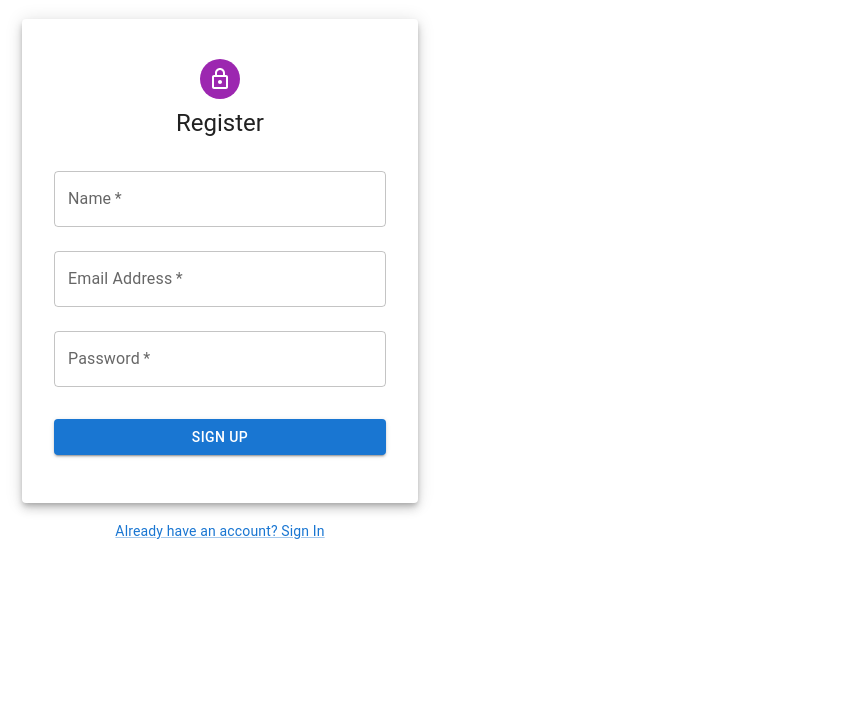
Test: Register Page › shows error snackbar when name is missing
Type "john.doe@example.com" into the field labelled "Email Address *" at (220, 279), box [54,251,386,307]
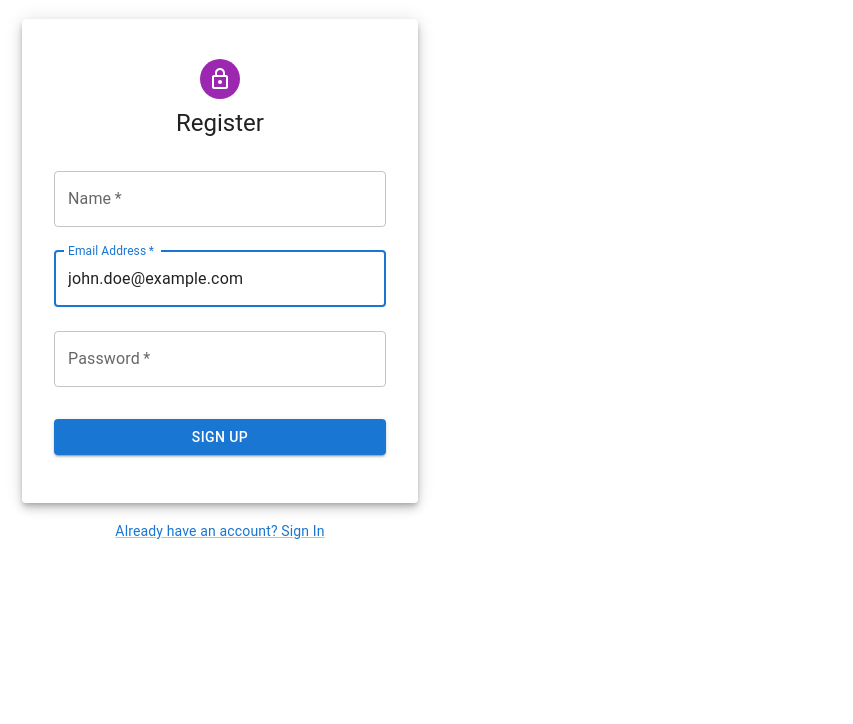
Type "password123" into the password field labelled "Password *" at (220, 359), box [54,331,386,387]
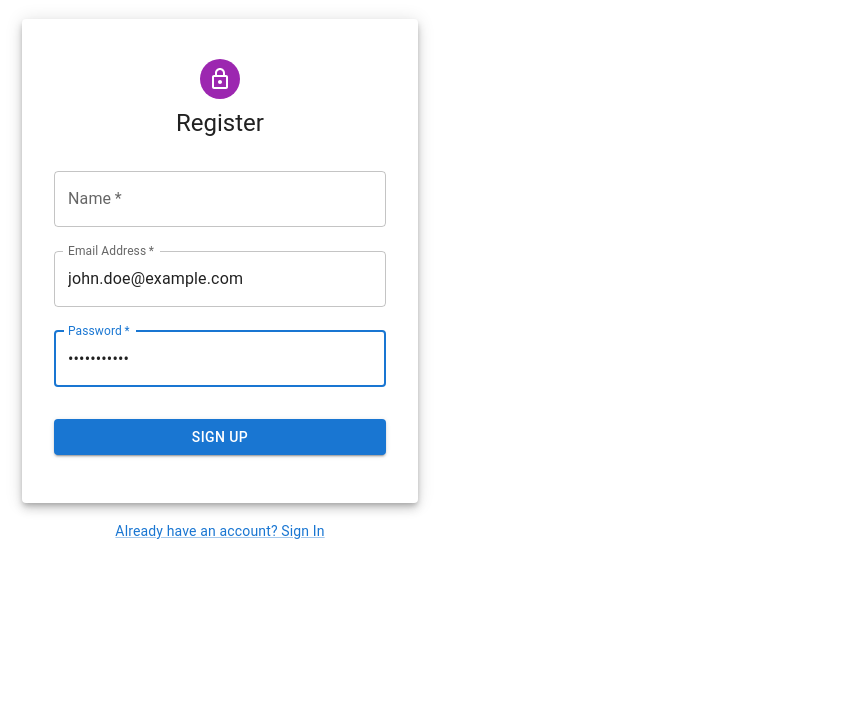
Click the button "Sign Up" at (220, 437), box [54,419,386,455]
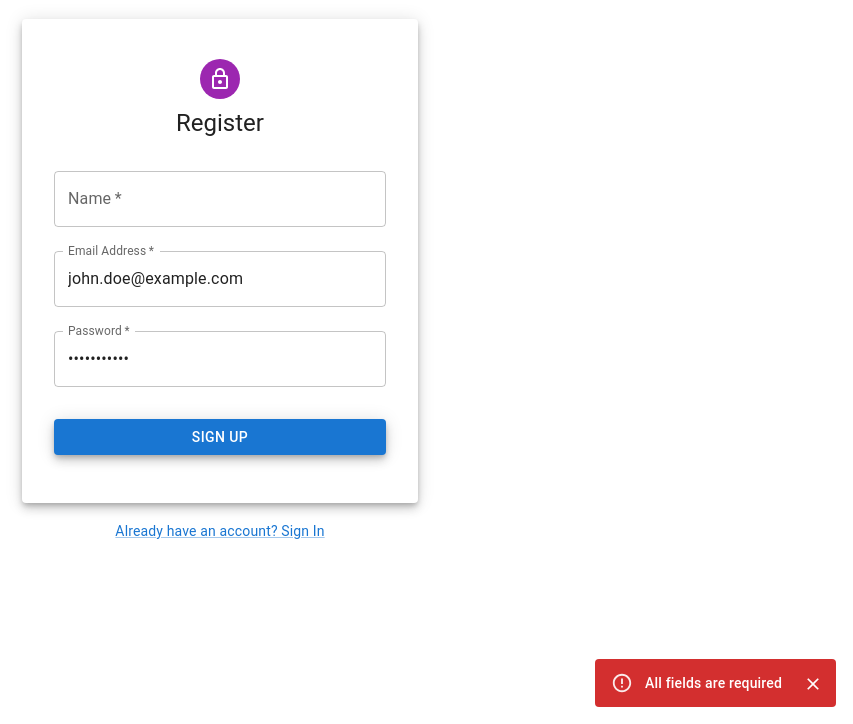
Expected: the text "All fields are required" is shown, [645,675,782,691]
